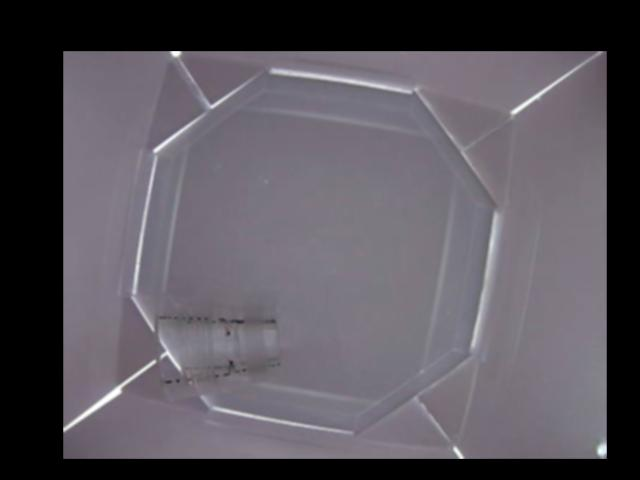Cup: (150, 308, 282, 403)
